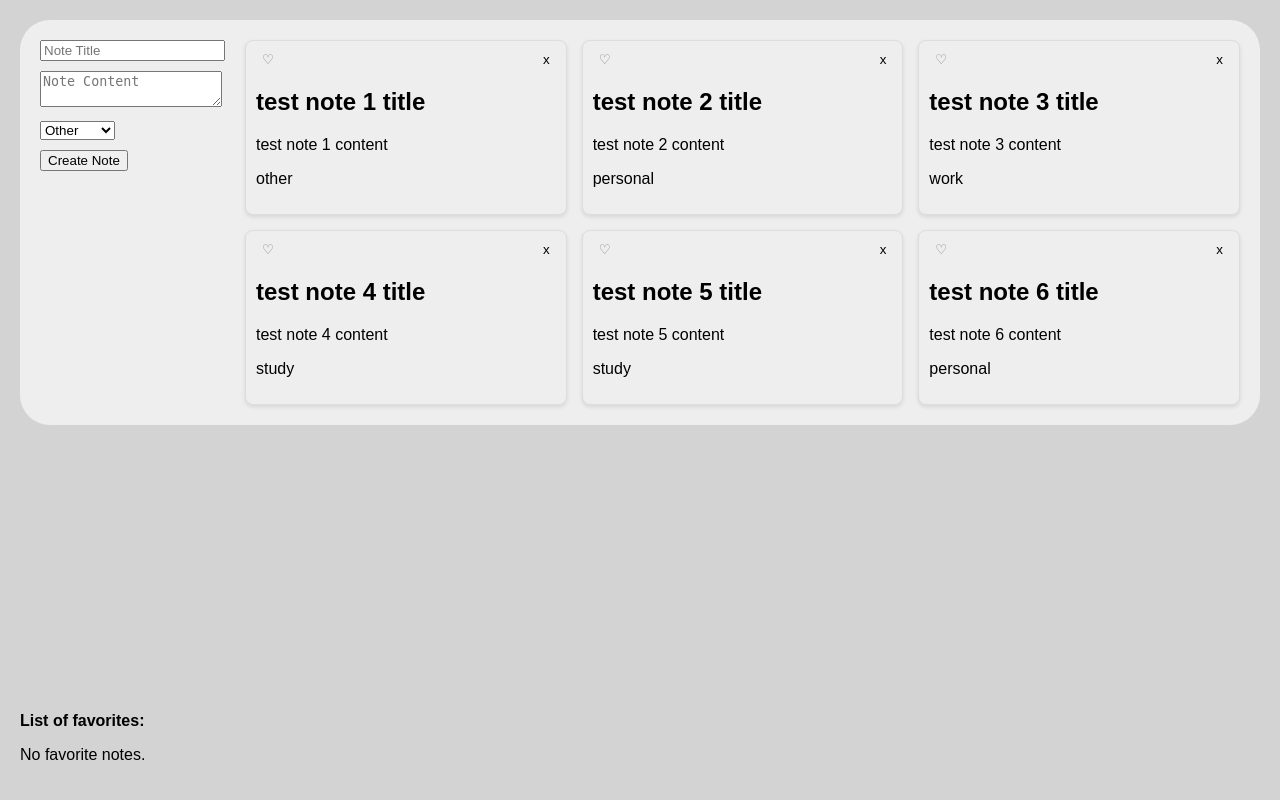
Test: required sticky note › Toggle Favorite Status
The image size is (1280, 800).
Expected: the 2nd text "♡" is shown, [599,52,611,67]
Click the 2nd button "♡" at (605, 60), box [593,51,617,68]
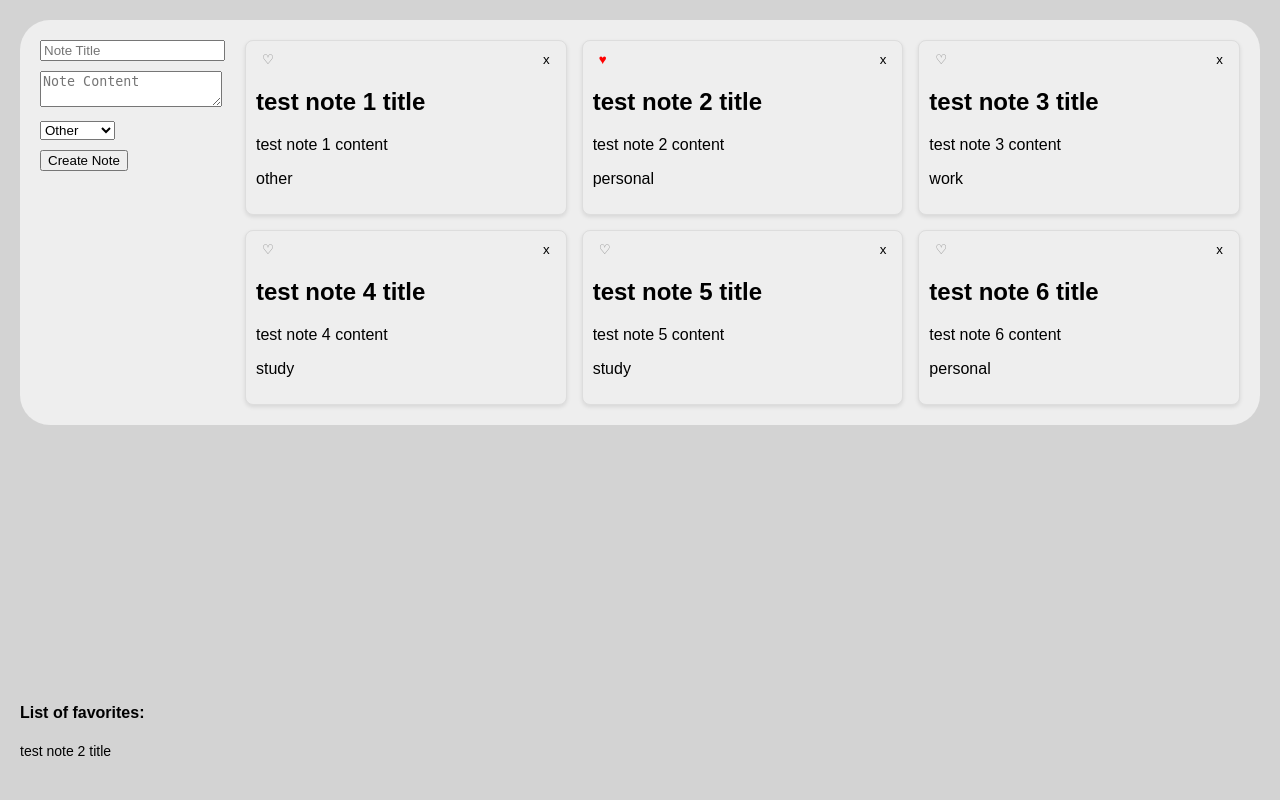
Result: the text "♡" reads "♥" at [599,52,607,67]
Click the button "♡" at (603, 60), box [593,51,613,68]
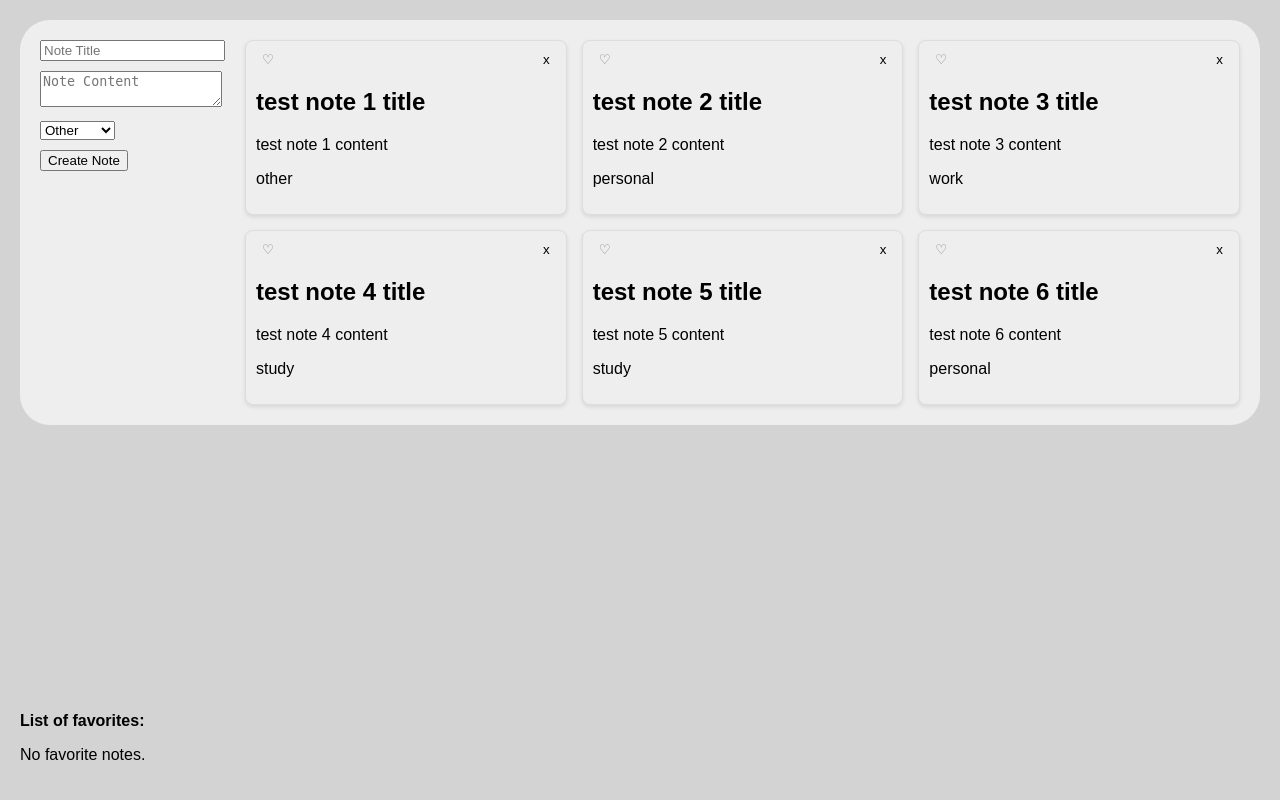
Result: the 2nd text "♡" is shown at [599,52,611,67]
